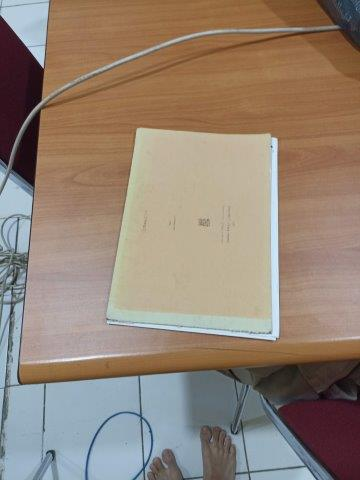kertas: (106, 128, 280, 340)
